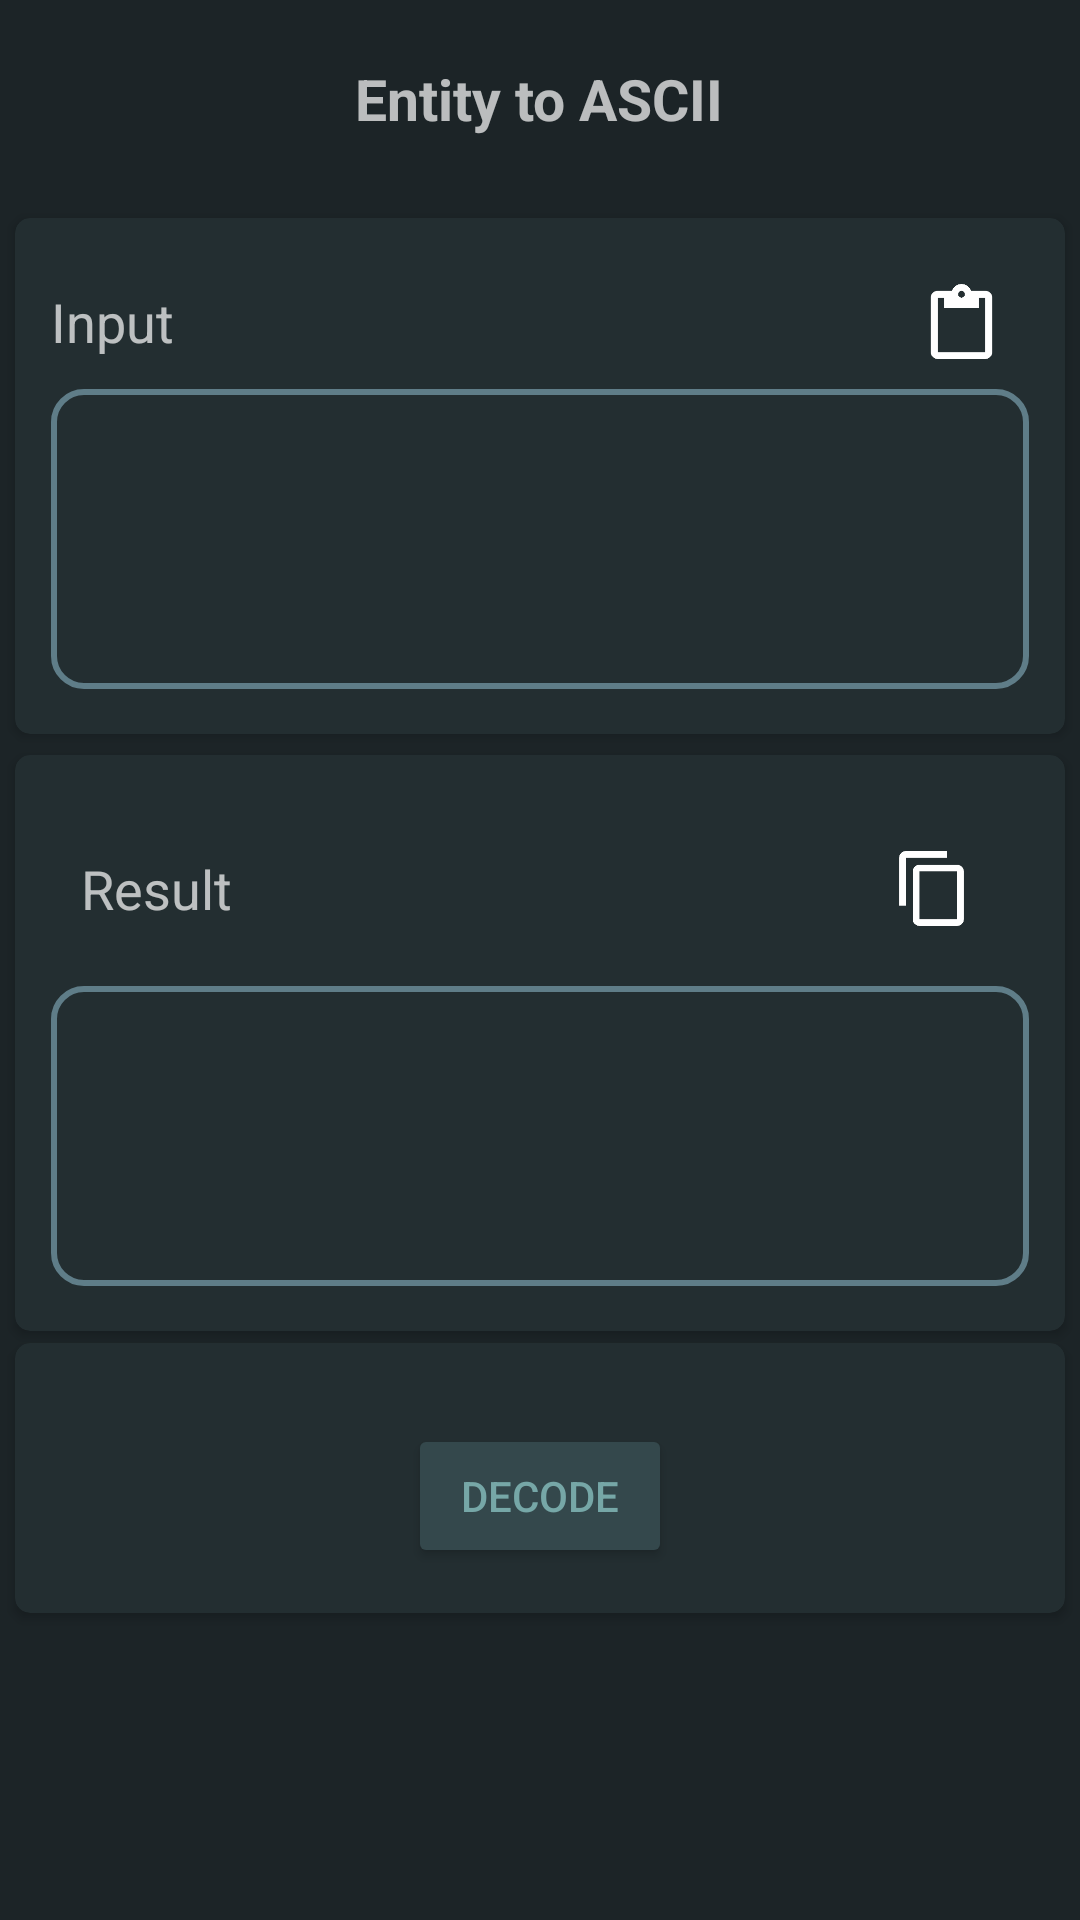

Icons on this 1080 × 1920 Android screen, each with its box as box(x1, y1, x2, y2):
cmd content paste: box(930, 284, 993, 359)
